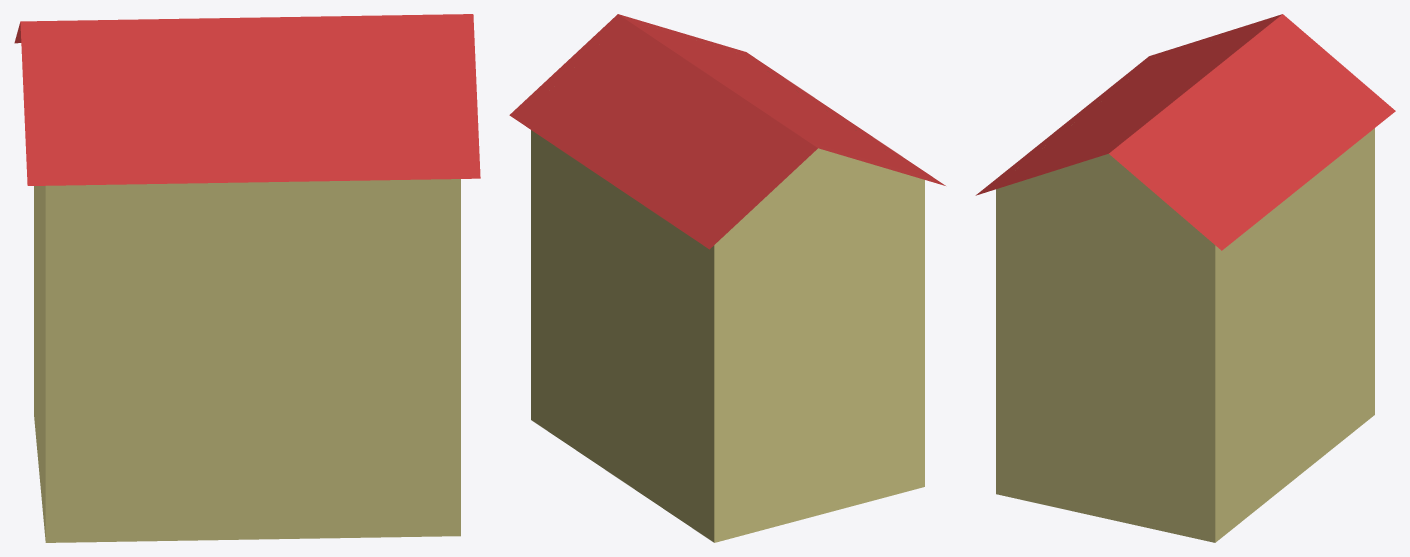
3 renders of one model, left to right at view 1: azimuth 30°, elevation 25°; view 2: azimuth 150°, elevation 25°; view 3: azimuth 270°, elevation 25°, orthographic. The views are drawn at different scales.
Bounding box in the file's own units: 14.77 × 13.49 × 13.19.
